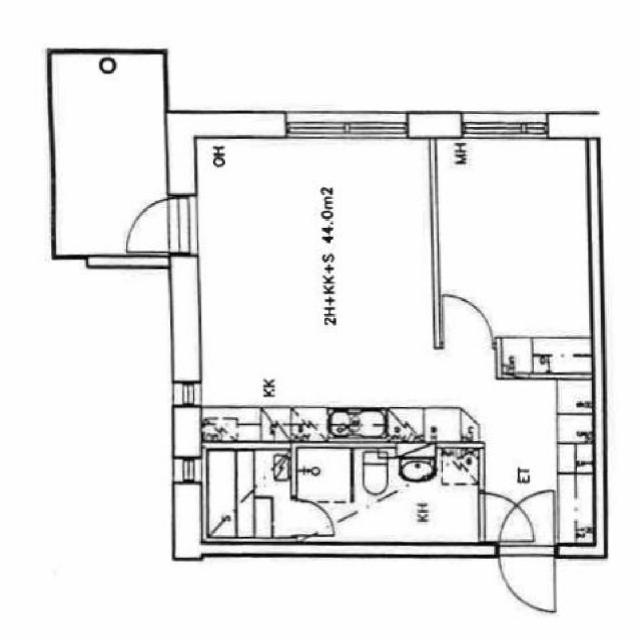door: (116, 198, 200, 252), (499, 542, 554, 612), (499, 487, 554, 557), (442, 293, 493, 349), (478, 493, 531, 539), (292, 501, 332, 536)
